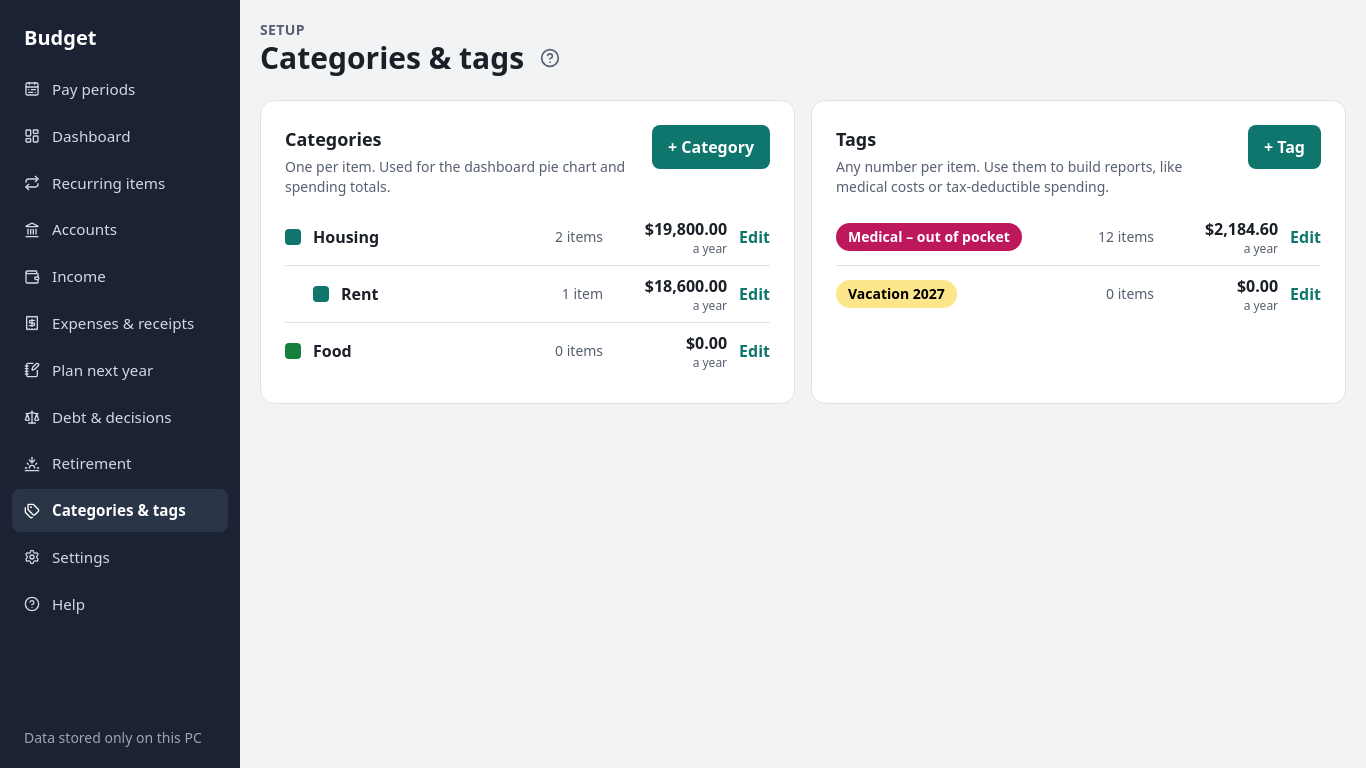
categories & tags screen › starts a new category on a color that is not in use yet
Click the button "+ Category" at (711, 147), box [652,125,770,169]
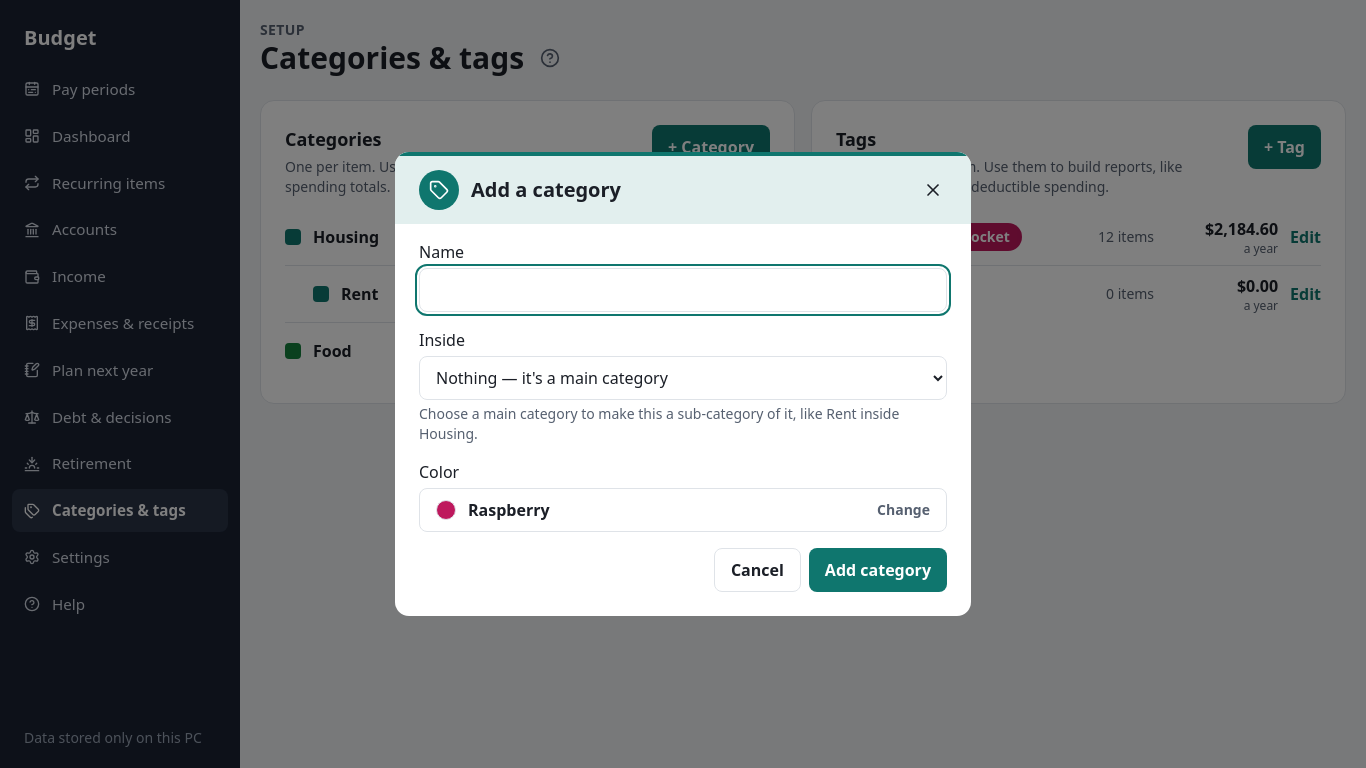
Type "Pets" into the field labelled "Name" at (683, 290), box [419,268,947,312]
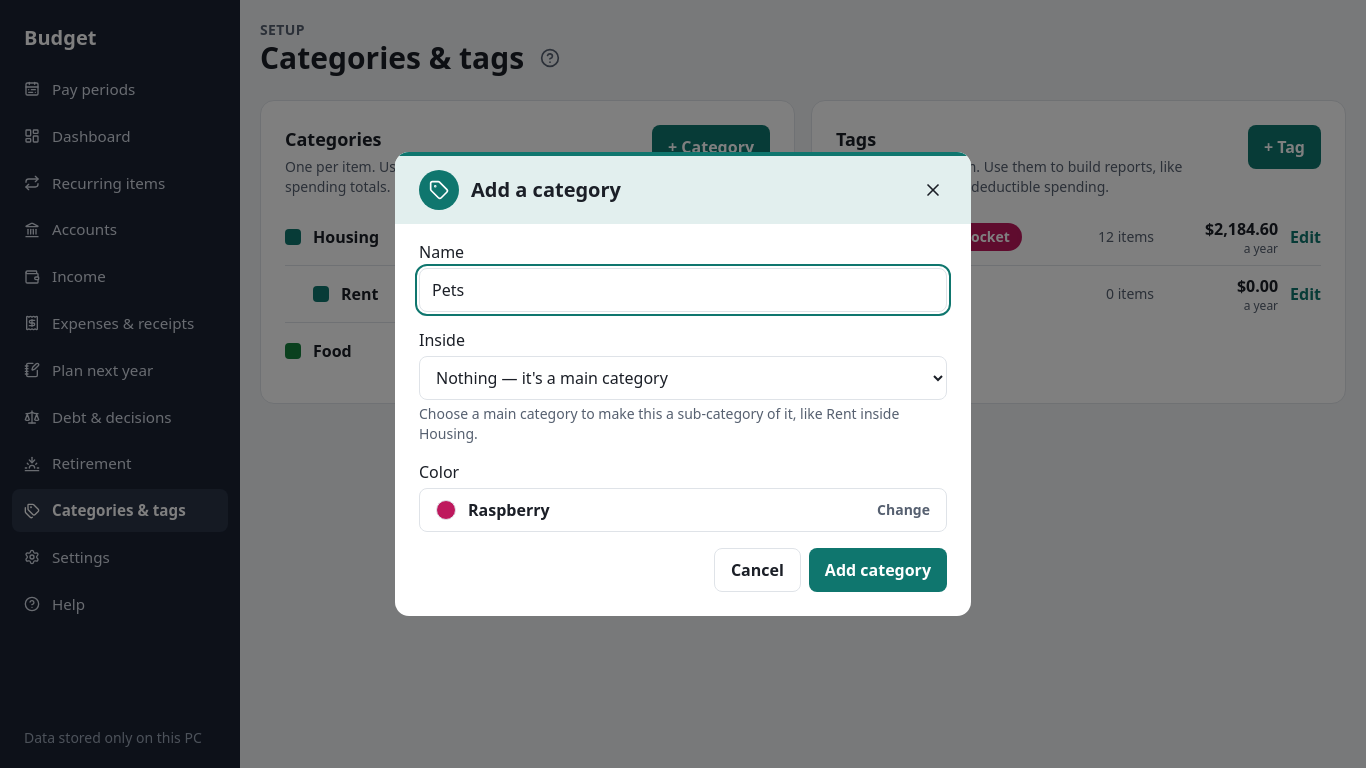
Click the button "Add category" at (878, 570), box [809,548,947,592]
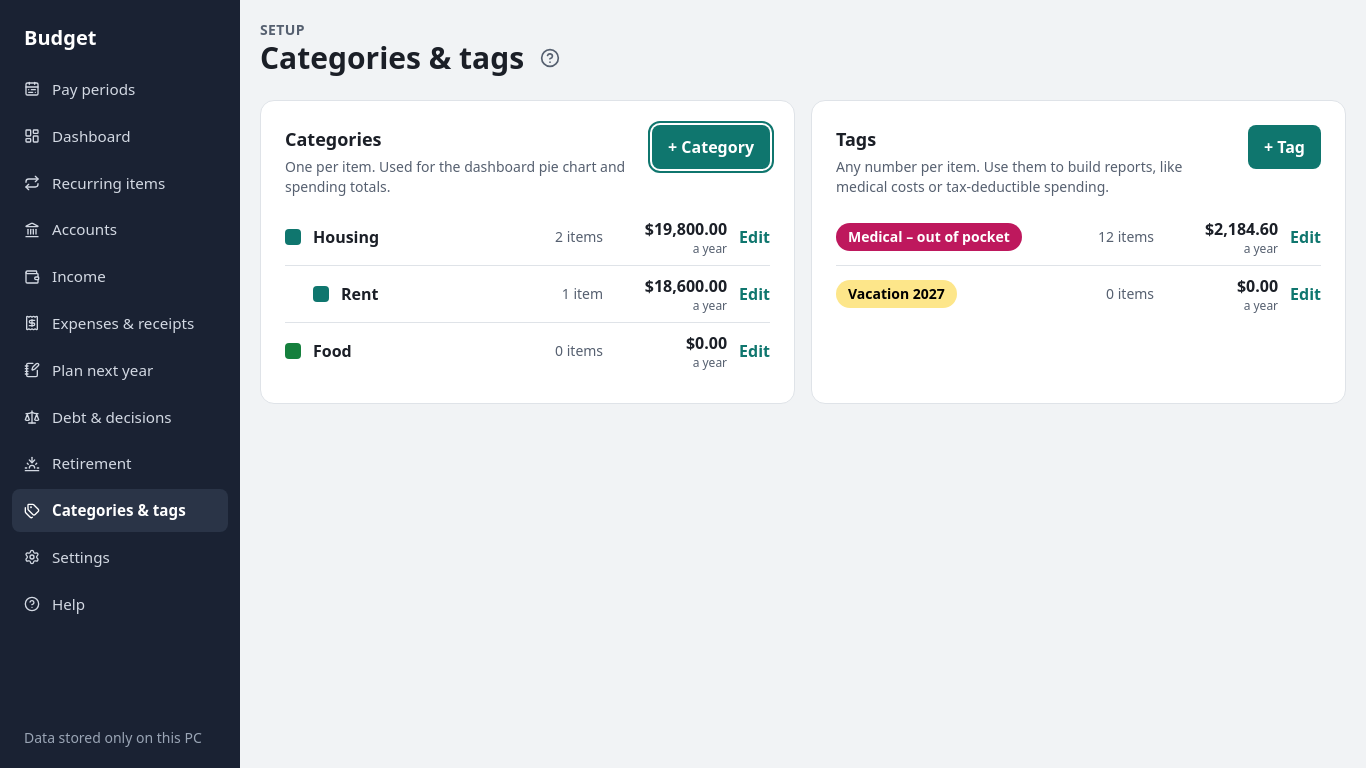
Expected: the dialog is gone
